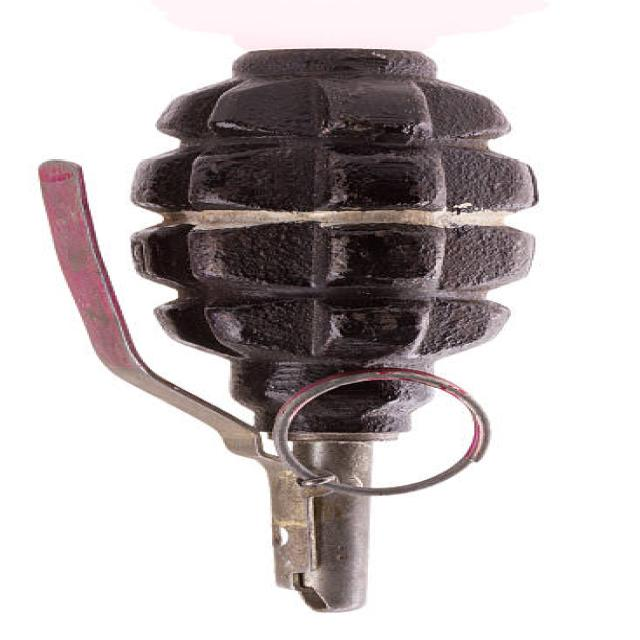grenade: (22, 43, 553, 617)
